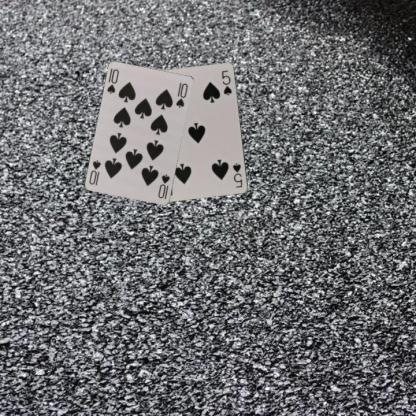10s: (105, 66, 120, 96), (155, 172, 171, 200)
5s: (230, 161, 244, 189)
